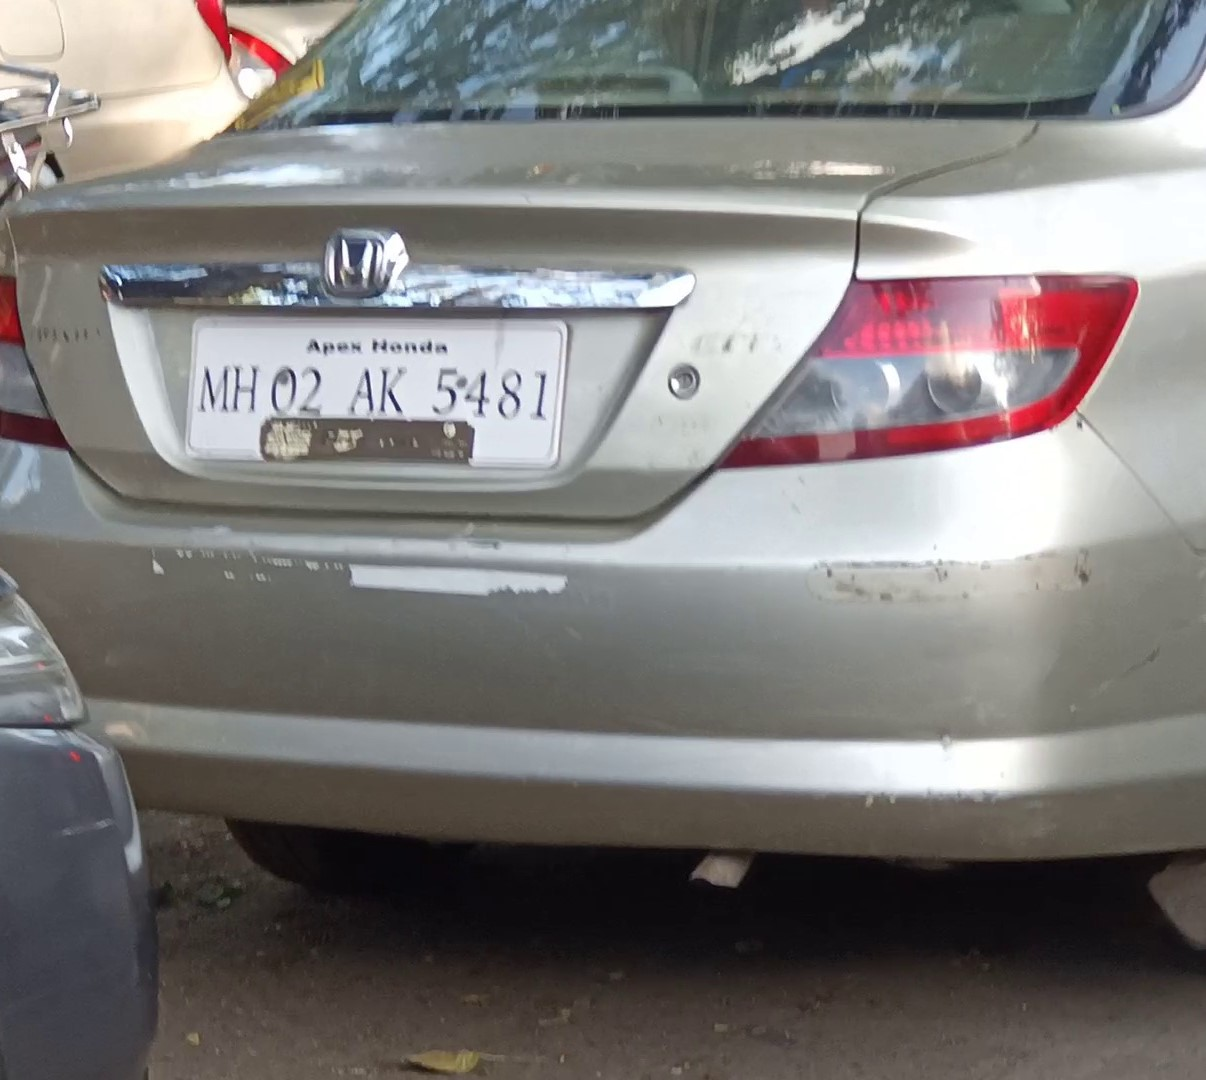MH02AK5481: (188, 313, 572, 467)
